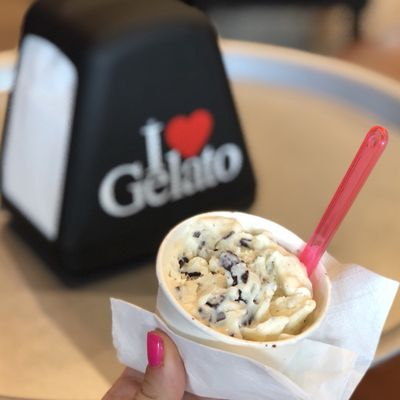salad: (298, 125, 389, 279)
sushi: (153, 210, 338, 388)
